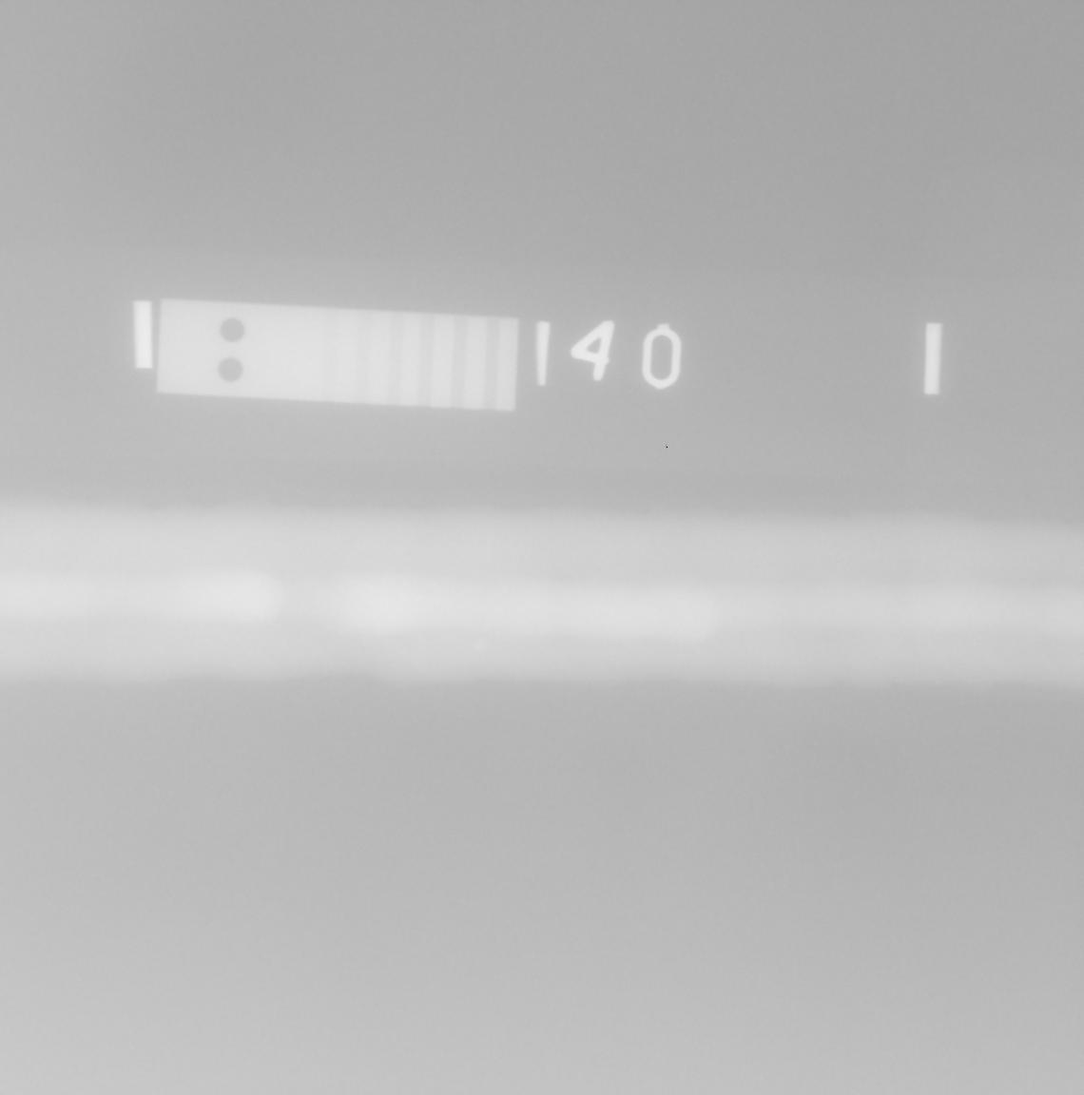Reference Standard 2: (156, 299, 519, 412)
